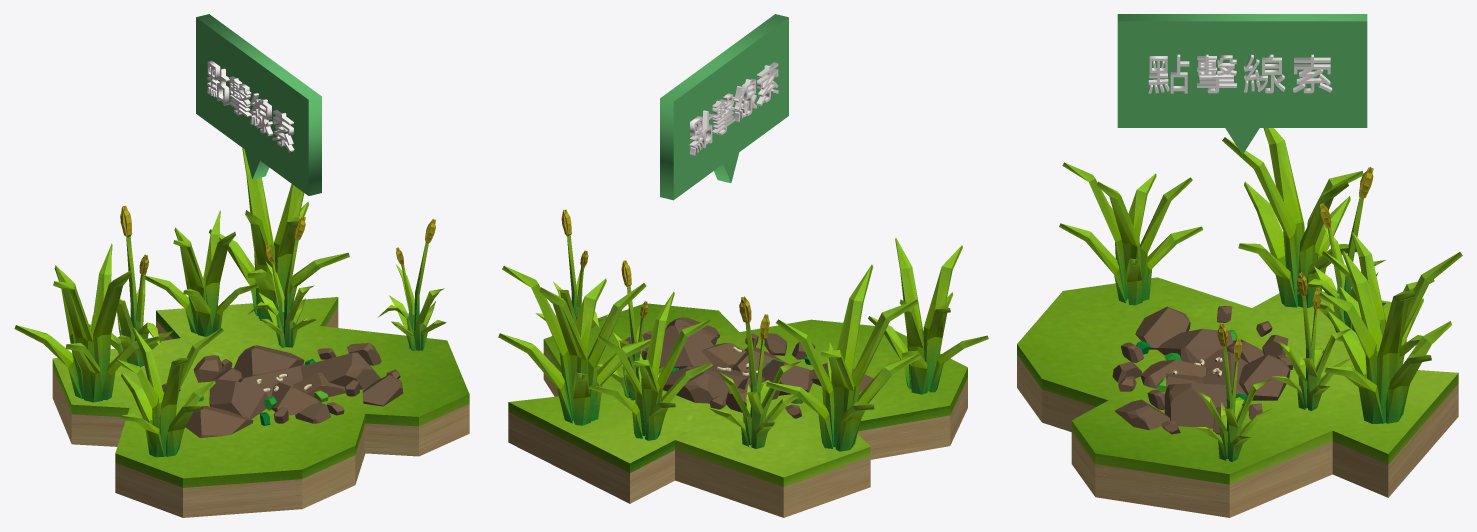
File: clue2.glb
3 views of the same model, side by side, from view 1: azimuth 30°, elevation 25°; view 2: azimuth 150°, elevation 25°; view 3: azimuth 270°, elevation 25° (orthographic). The views are drawn at different scales.
Visible parts, largest first — view 1: clue2_game1, 對話框01.001; view 2: clue2_game1, 對話框01.001; view 3: clue2_game1, 對話框01.001.
Boxes of the visible parts, x1,y1,x2,y2 form: clue2_game1: [14, 148, 469, 517]; 對話框01.001: [196, 14, 321, 195]; clue2_game1: [498, 209, 988, 517]; 對話框01.001: [660, 14, 788, 200]; clue2_game1: [1017, 128, 1462, 517]; 對話框01.001: [1117, 14, 1367, 154].
Bounding box in the file's own units: 9.1 × 8.29 × 8.33.
Materials: 2 (2 with a texture image).
